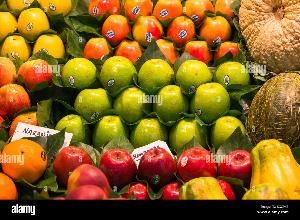apple: (48, 59, 258, 157), (53, 147, 255, 203), (75, 0, 245, 58), (0, 0, 74, 58), (0, 58, 60, 112), (190, 83, 231, 124), (53, 147, 93, 188), (138, 148, 176, 190), (99, 149, 137, 191), (177, 148, 218, 183), (67, 165, 110, 198), (153, 85, 190, 123), (100, 56, 137, 94), (74, 88, 113, 123), (169, 118, 208, 151), (219, 151, 252, 190), (211, 116, 246, 152), (92, 115, 129, 149), (113, 88, 147, 124), (176, 60, 212, 93), (130, 118, 168, 149), (17, 7, 50, 41), (17, 59, 52, 91), (0, 84, 31, 119), (138, 59, 174, 89), (132, 15, 164, 47), (200, 16, 232, 47), (62, 58, 96, 87), (102, 14, 132, 46), (216, 61, 251, 88), (167, 16, 196, 48), (55, 115, 88, 143), (0, 35, 32, 62), (32, 33, 65, 59), (184, 0, 215, 26), (182, 40, 213, 64), (114, 41, 144, 64), (83, 37, 112, 60), (124, 0, 153, 22), (153, 0, 183, 20), (156, 39, 180, 64), (88, 0, 121, 16), (214, 41, 240, 61), (39, 0, 71, 16), (0, 57, 16, 88), (122, 184, 150, 201), (0, 11, 17, 39), (216, 180, 237, 201), (159, 183, 183, 201), (215, 0, 237, 17), (7, 0, 33, 11)
orange: (0, 113, 50, 207), (1, 140, 47, 184), (9, 112, 39, 138)
